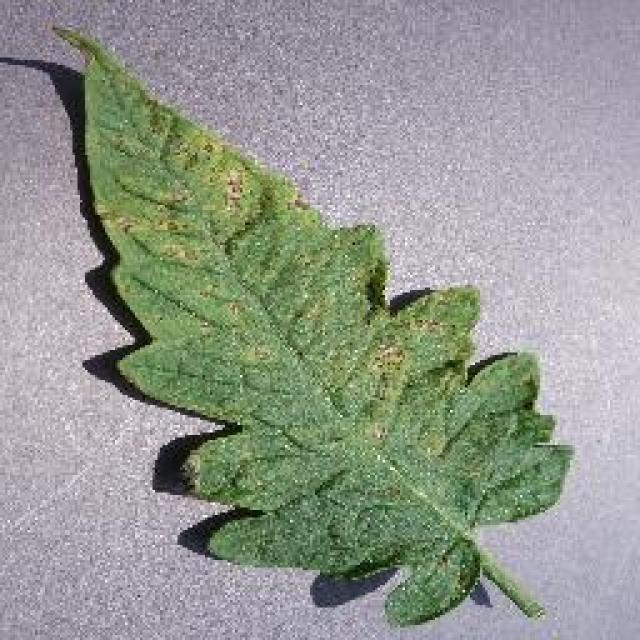Tomato___Septoria_leaf_spot: (58, 30, 570, 622)
